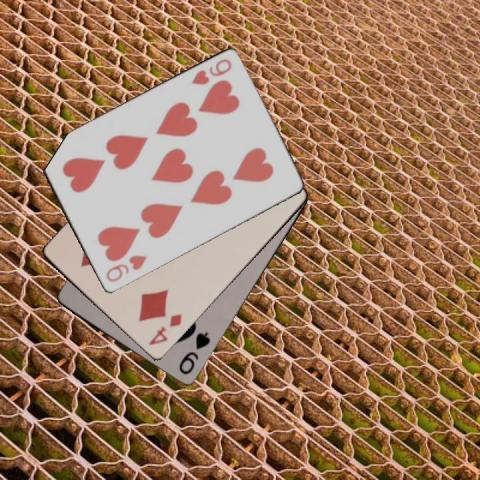4d: (146, 312, 184, 347)
9h: (103, 253, 148, 284), (188, 56, 233, 87)
9s: (175, 329, 212, 377)
